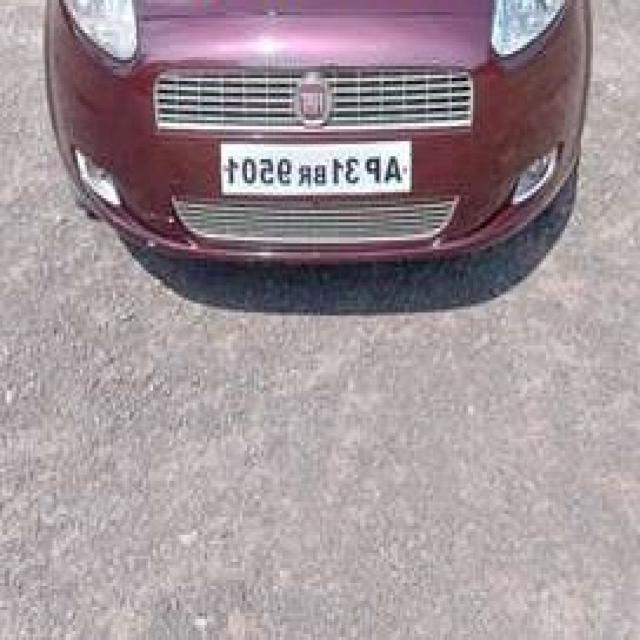license_plate: (215, 134, 414, 209)
